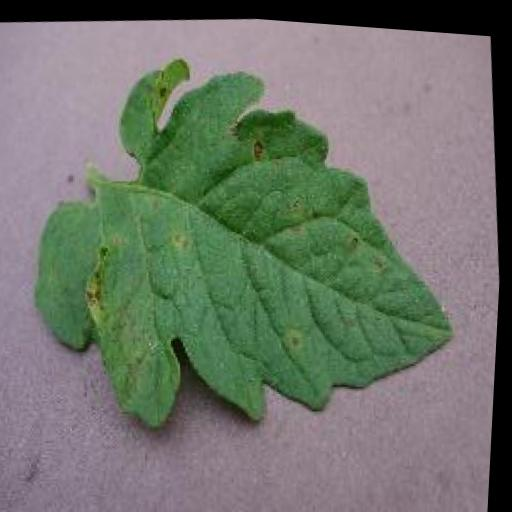Septoria: (10, 21, 477, 451)
